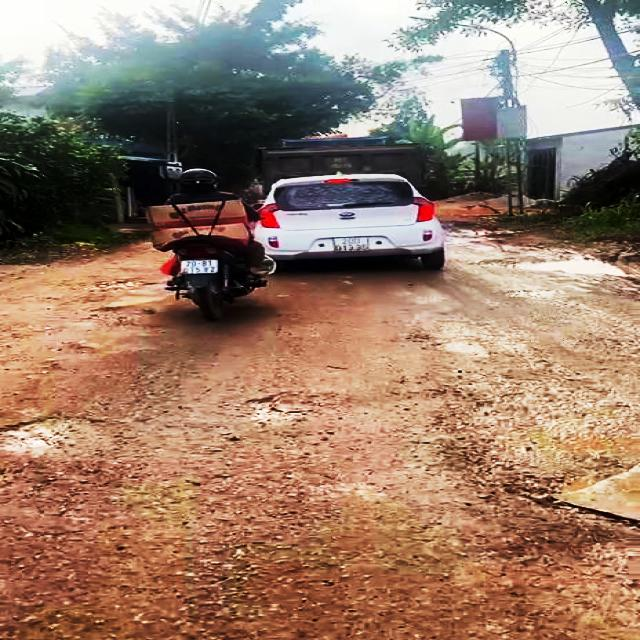pothole: (477, 411, 640, 526), (0, 413, 148, 454), (244, 390, 342, 427), (471, 257, 626, 278), (406, 332, 495, 359), (86, 304, 157, 327), (86, 277, 157, 292)
